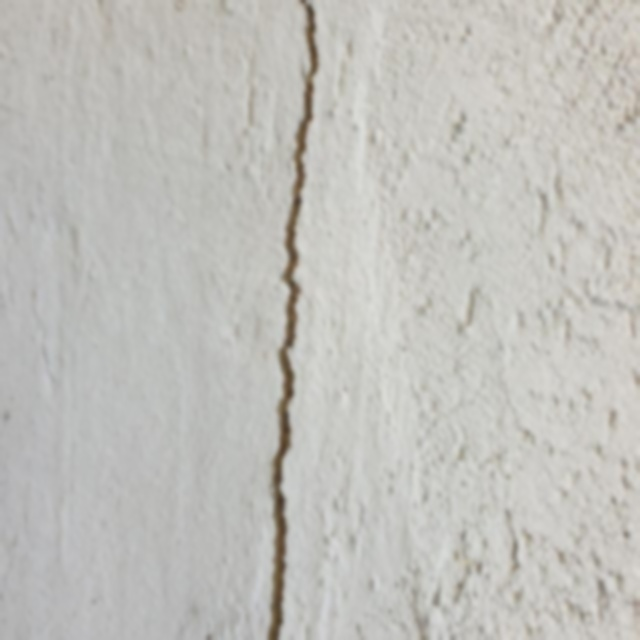SurfaceCrack: (218, 0, 370, 640)
